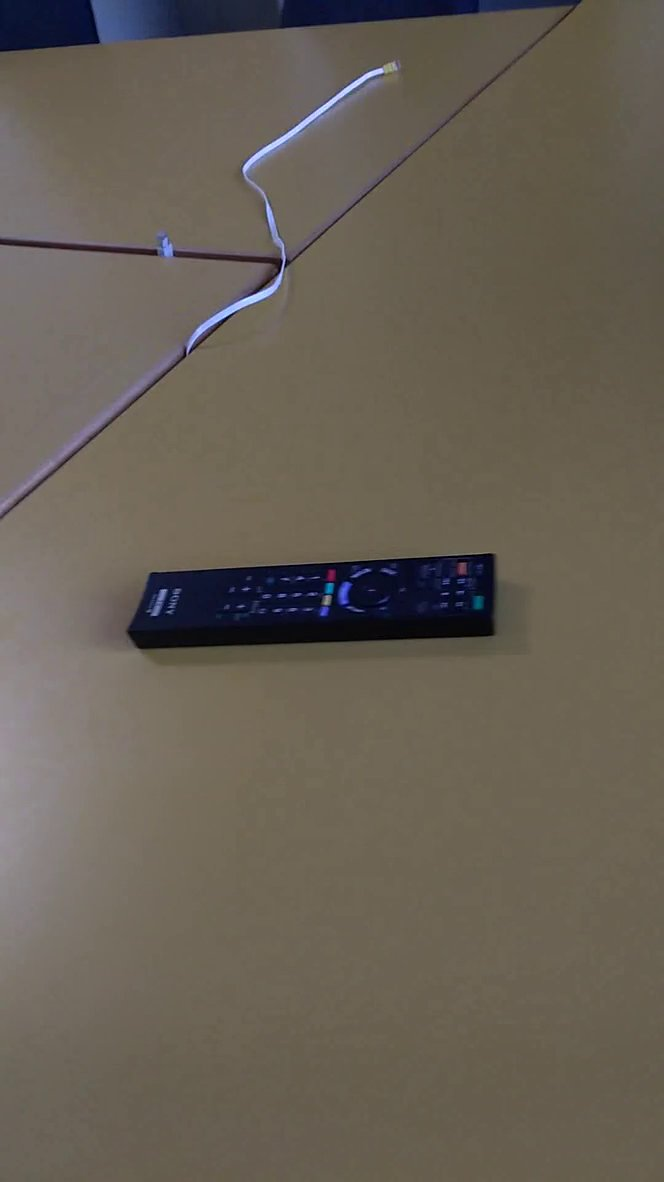remote: (116, 519, 513, 670)
